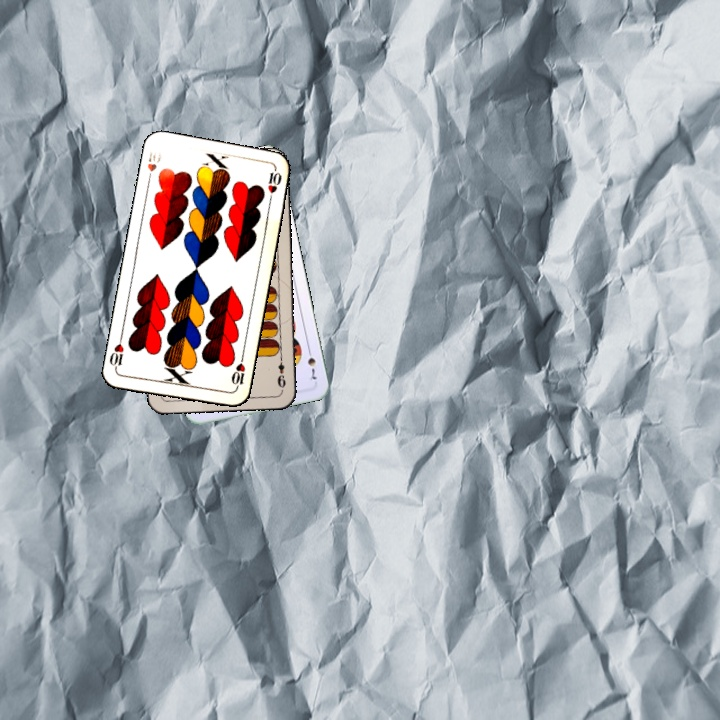E9: (273, 352, 288, 392)
H10: (227, 352, 248, 393), (143, 148, 159, 185)
S7: (303, 344, 319, 382)
